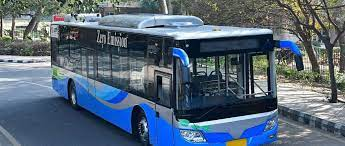bus: (46, 15, 283, 146)
